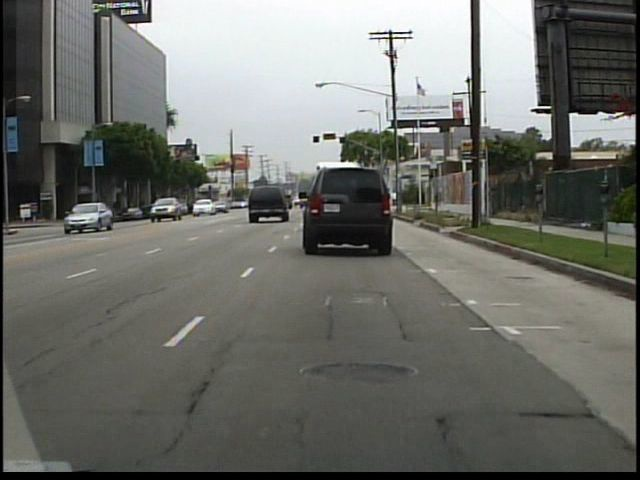person: (391, 188, 398, 209)
